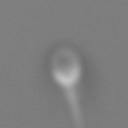normal: (56, 86, 94, 128)
